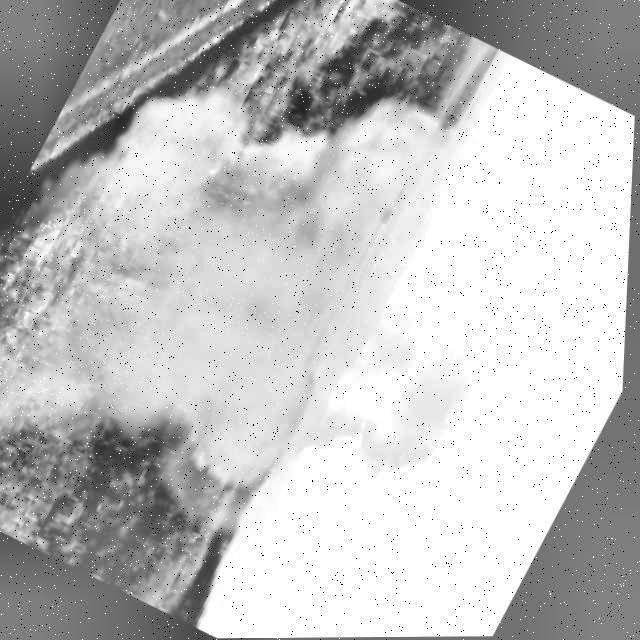Smoke: (0, 0, 633, 639)
